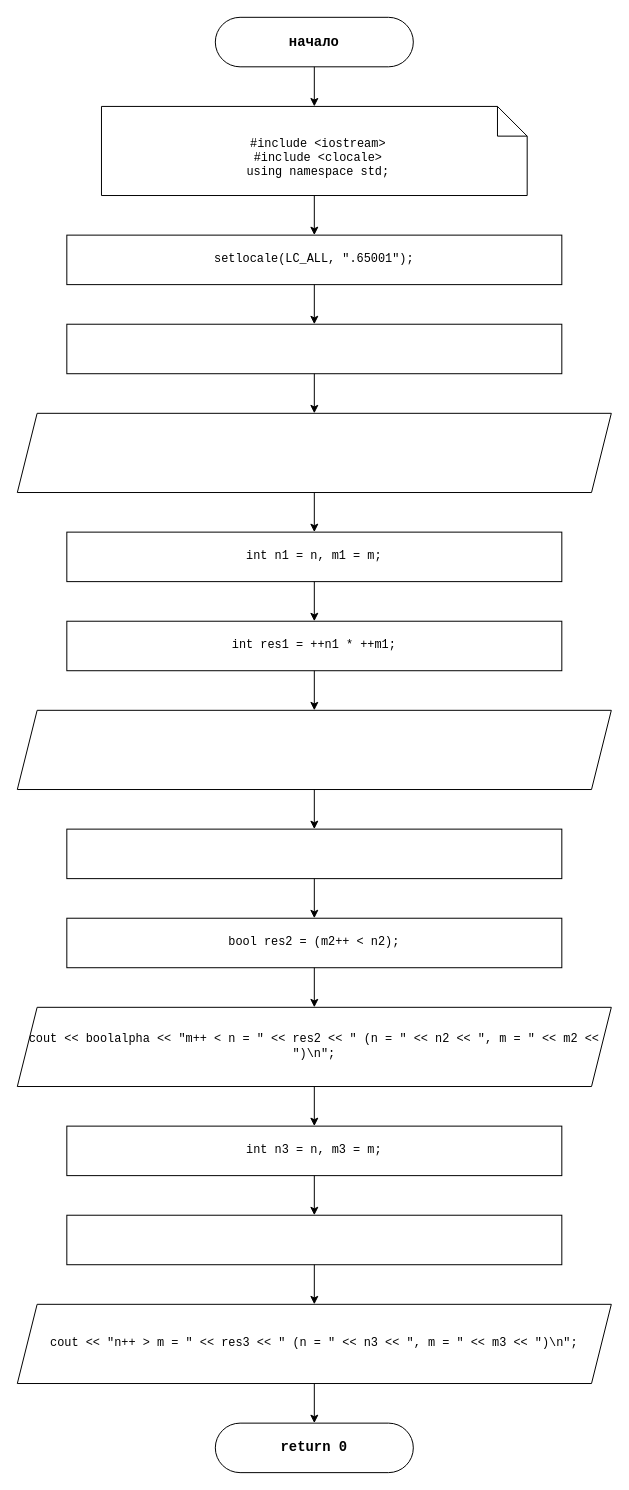
This 629x1490 diagram has some shape labels left out. The shapes that lost their labels are listed below. From the top down, each one's centre as x and y in pixels, then its label:
pixel 314 348: int n = 2, m = 1;
pixel 313 452: cout << "Исходные значения: n = " << n << ", m = " << m << '\n';
pixel 313 749: cout << "++n * ++m = " << res1 << " (n = " << n1 << ", m = " << m1 << ")\n";
pixel 314 853: int n2 = n, m2 = m;
pixel 314 1239: bool res3 = (n3++ > m3);
